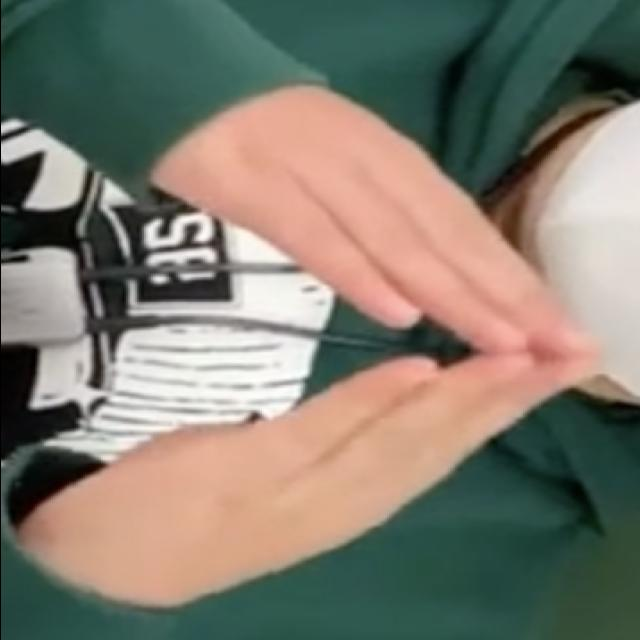casa: (51, 51, 610, 628)
